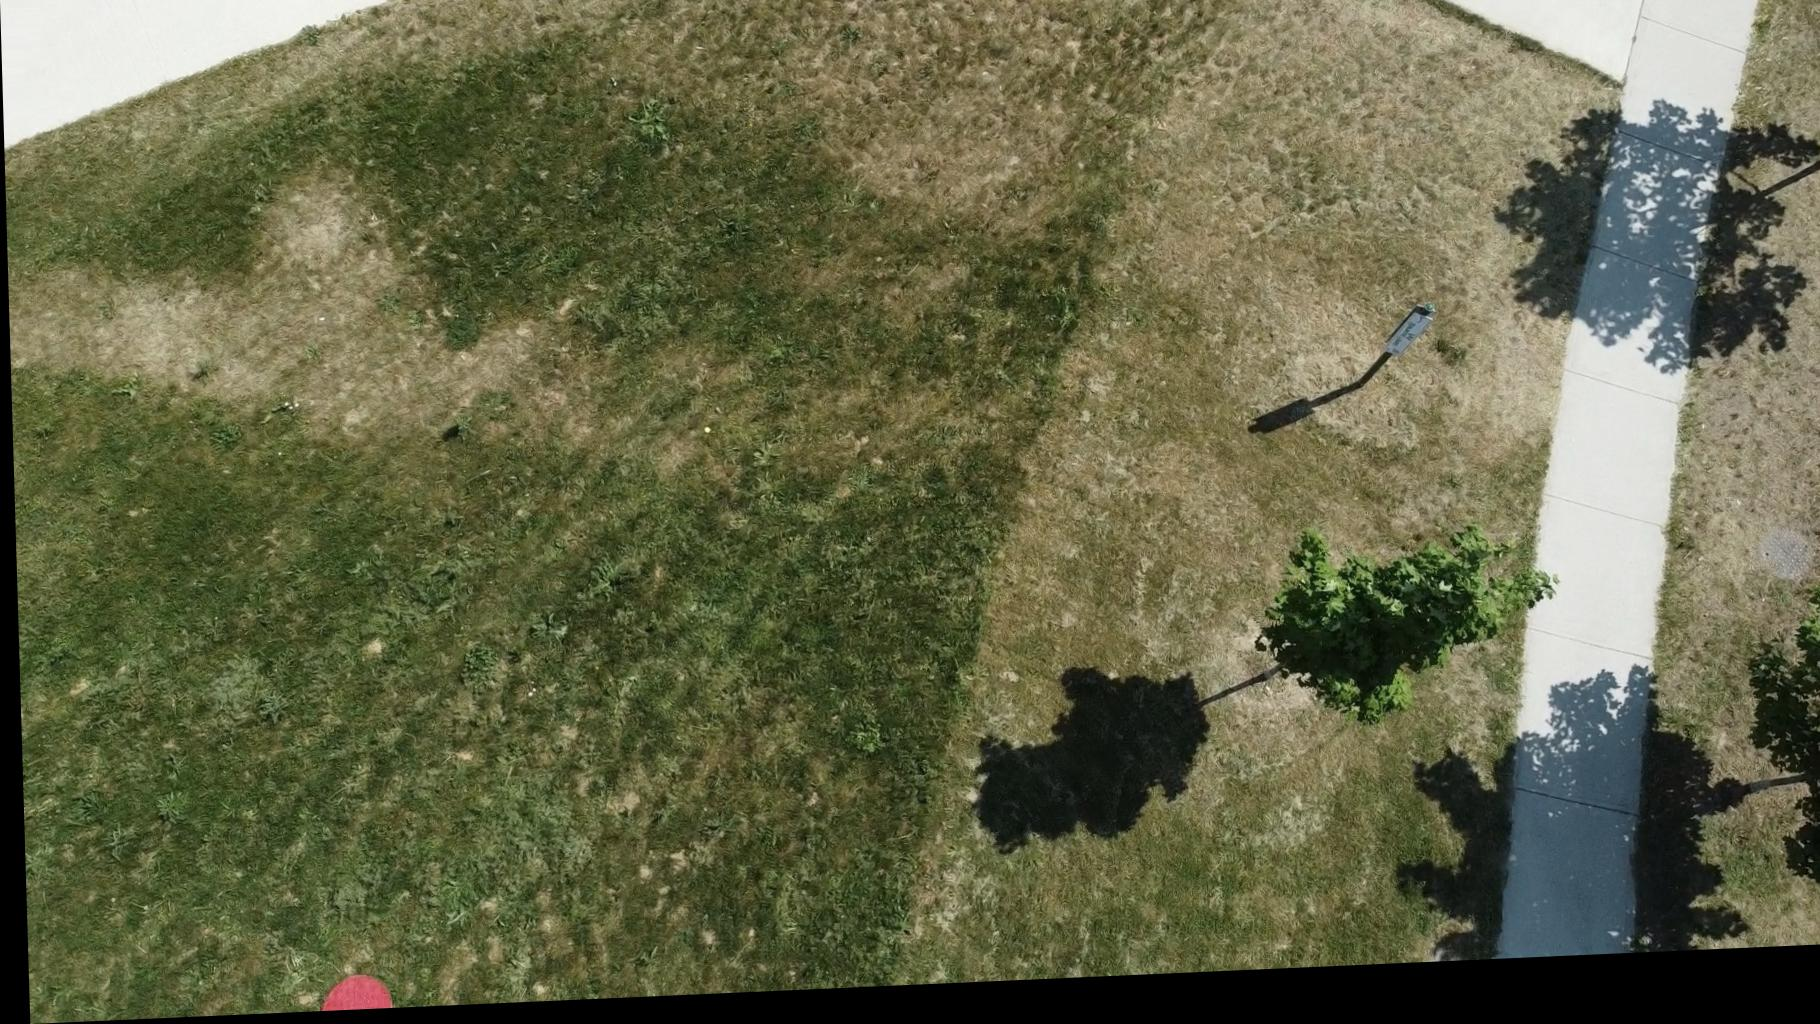Red: (306, 973, 391, 1014)
